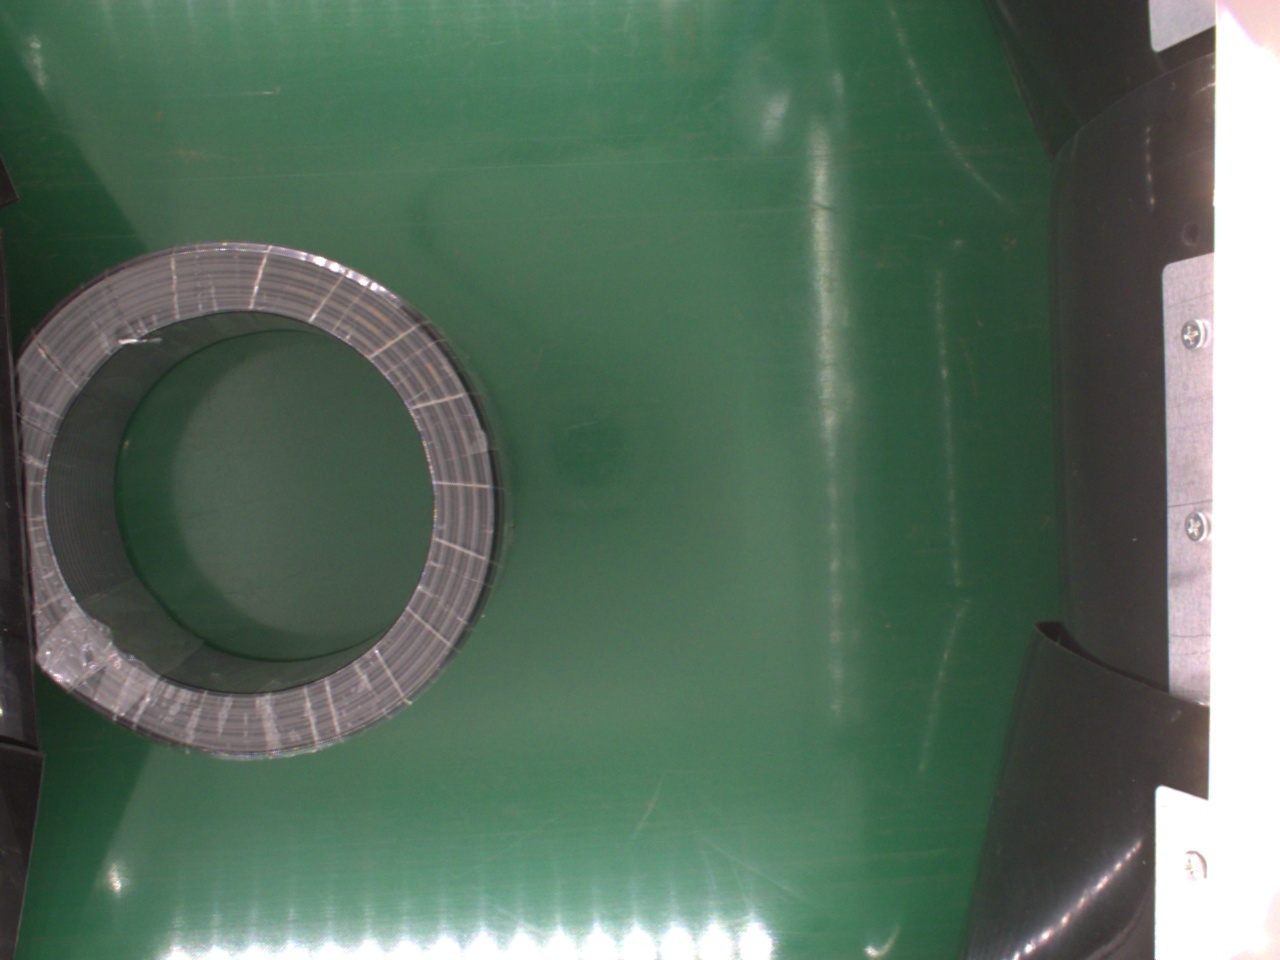black: (31, 241, 507, 759)
